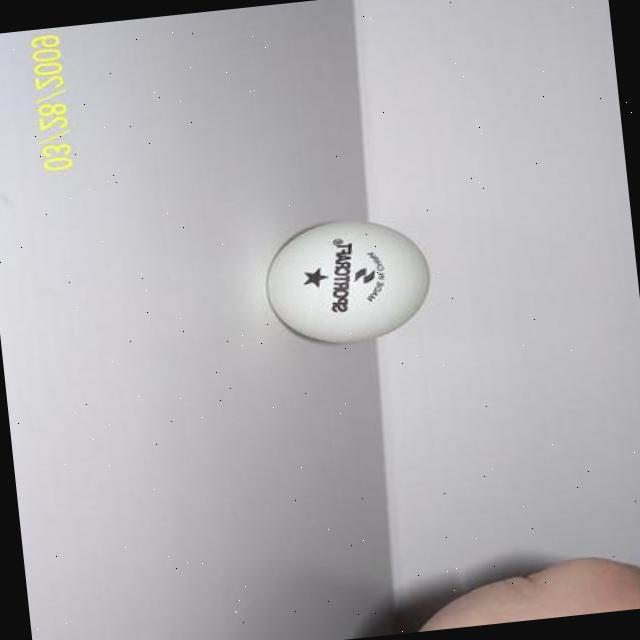ping-pong-ball: (256, 208, 438, 352)
